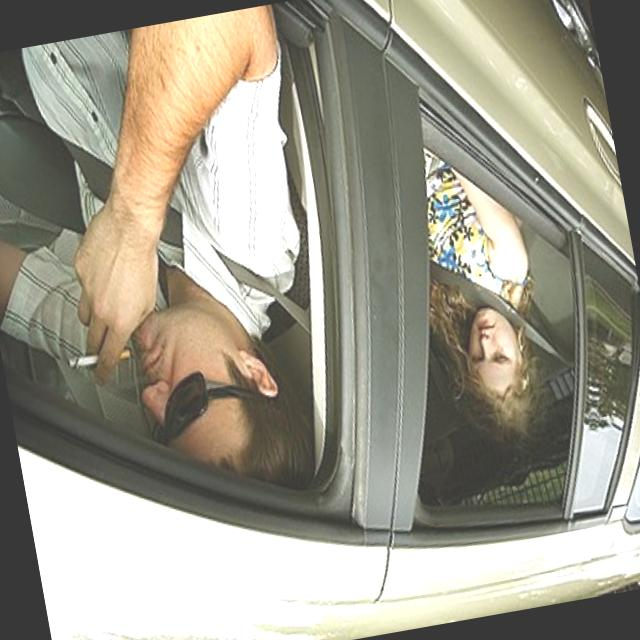smoke: (61, 340, 102, 374)
